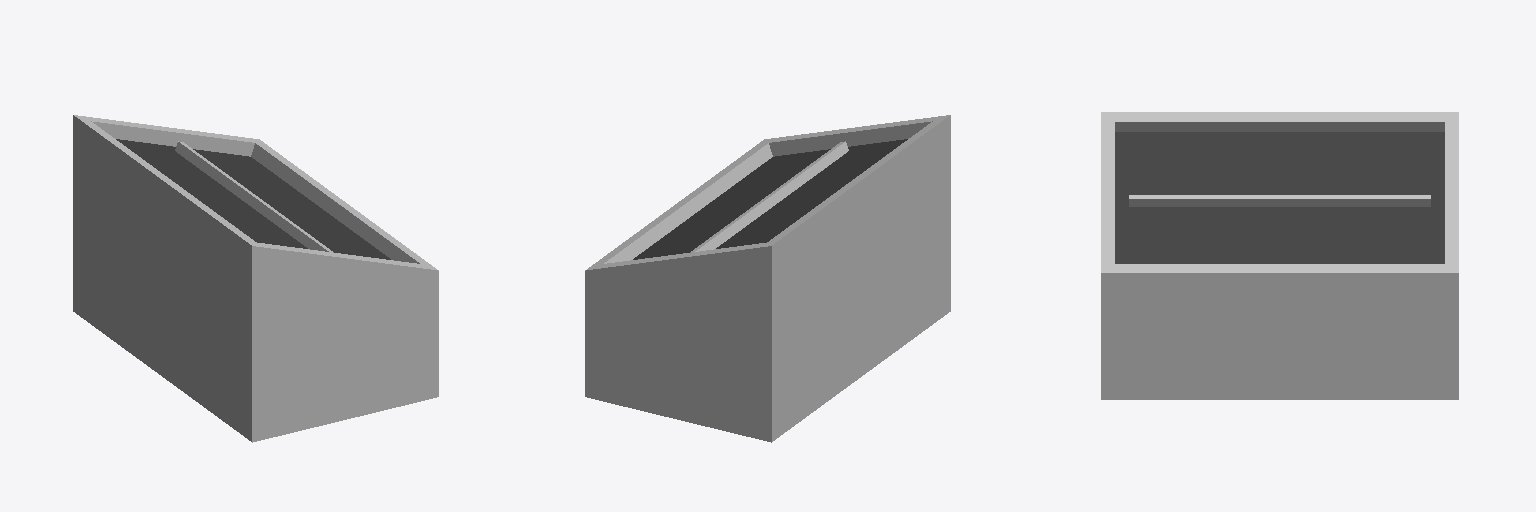
File: shell.1.obj
The picture shows the model from 3 angles: view 1: azimuth 30°, elevation 25°; view 2: azimuth 150°, elevation 25°; view 3: azimuth 270°, elevation 25°; orthographic projection.
Visible parts, largest first — view 1: Cube.003; view 2: Cube.003; view 3: Cube.003.
Part boxes in pixels (left/top/right/bottom): Cube.003: left=73, top=115, right=438, bottom=442; Cube.003: left=585, top=115, right=950, bottom=442; Cube.003: left=1101, top=112, right=1458, bottom=399.
Size of the model in its own units: 1.13 by 1.14 by 1.88.